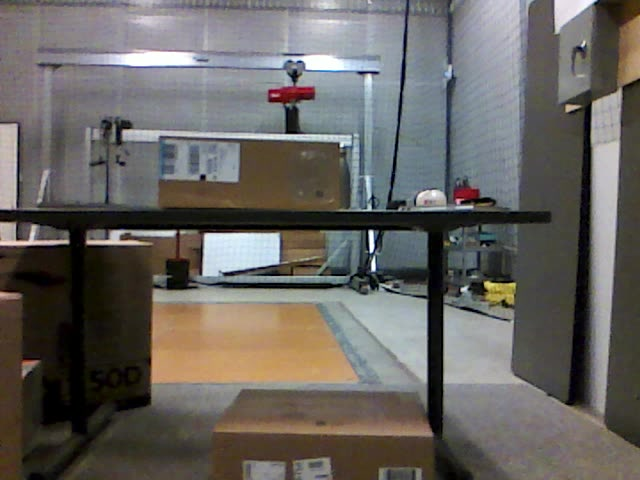box: (1, 241, 152, 412), (214, 389, 435, 480), (159, 136, 342, 211)
